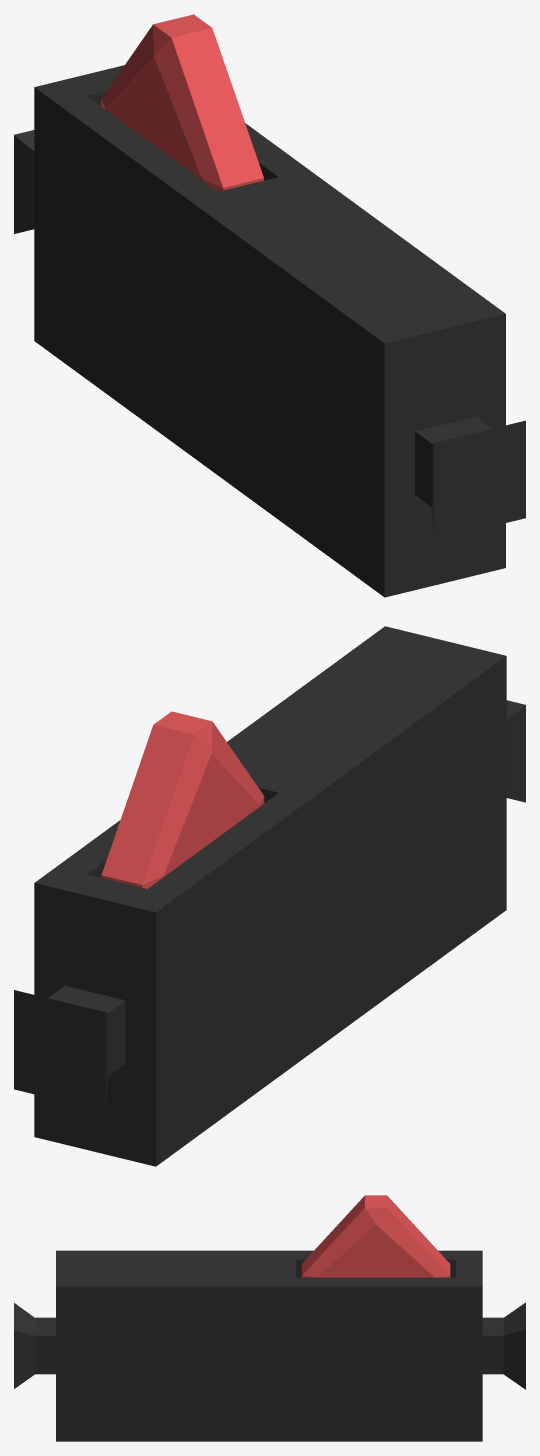
File: sensor3.fbx
3 views of the same model, one above another, from view 1: azimuth 30°, elevation 25°; view 2: azimuth 150°, elevation 25°; view 3: azimuth 270°, elevation 25° (orthographic). The views are drawn at different scales.
Visible parts, largest first — view 1: Cube, Cube.001; view 2: Cube, Cube.001; view 3: Cube, Cube.001.
Part boxes in pixels (x1=…): Cube: x1=14, y1=65, x2=525, y2=597; Cube.001: x1=101, y1=14, x2=263, y2=191; Cube: x1=14, y1=626, x2=525, y2=1166; Cube.001: x1=101, y1=711, x2=264, y2=888; Cube: x1=14, y1=1250, x2=525, y2=1441; Cube.001: x1=302, y1=1195, x2=450, y2=1277.
Size of the model in its own units: 40 by 115 by 240.
